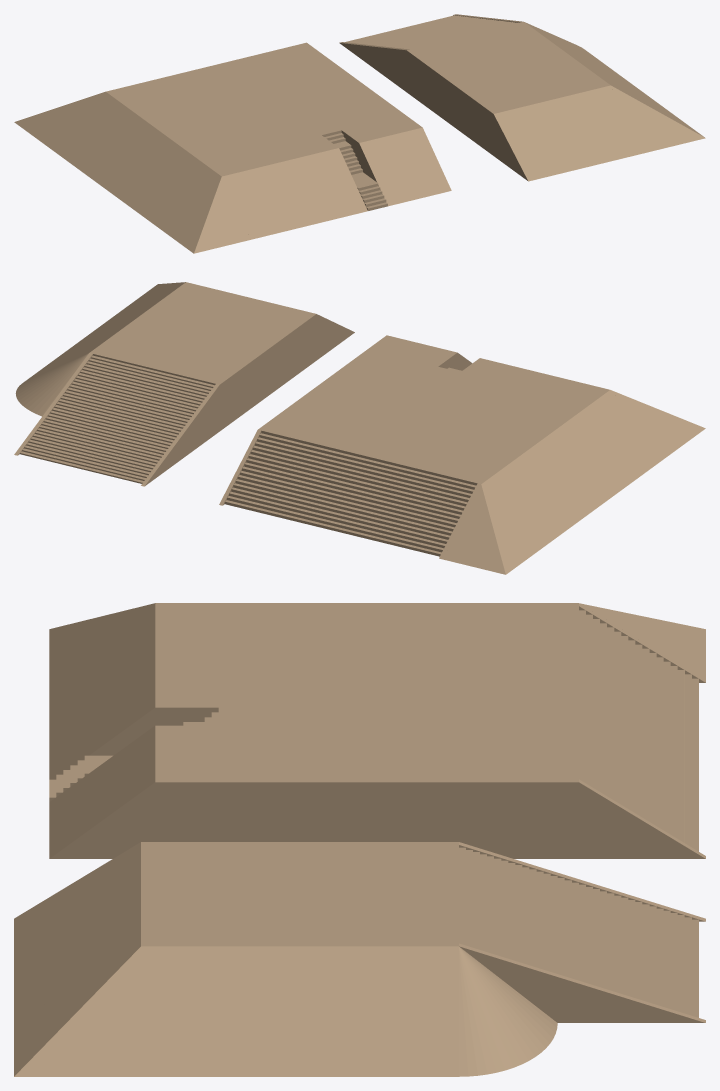
File: Podio Puerta de Chihuahua.glb
3 views of the same model, one above another, from view 1: azimuth 30°, elevation 25°; view 2: azimuth 150°, elevation 25°; view 3: azimuth 270°, elevation 25° (orthographic). The views are drawn at different scales.
Parts seen in each view (by area): view 1: Mesh_Mesh_head_geo.001_lambert2SG.001; view 2: Mesh_Mesh_head_geo.001_lambert2SG.001; view 3: Mesh_Mesh_head_geo.001_lambert2SG.001.
Part boxes in pixels (bbox=[...]): Mesh_Mesh_head_geo.001_lambert2SG.001: bbox=[14, 14, 705, 253]; Mesh_Mesh_head_geo.001_lambert2SG.001: bbox=[14, 282, 705, 574]; Mesh_Mesh_head_geo.001_lambert2SG.001: bbox=[14, 603, 705, 1076].
Size of the model in its own units: 150 by 12 by 98.
